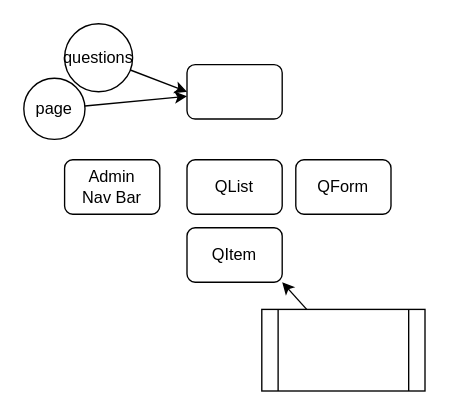
Some shapes in this 449 by 415 pixel diagram are drawn without their labels. The shapes that lost their labels are listed below. From the top down, each one's centre as x and y in pixels, then its label:
At [234,91]: "App".
At [342,349]: "id prompt answers correctIndex".
